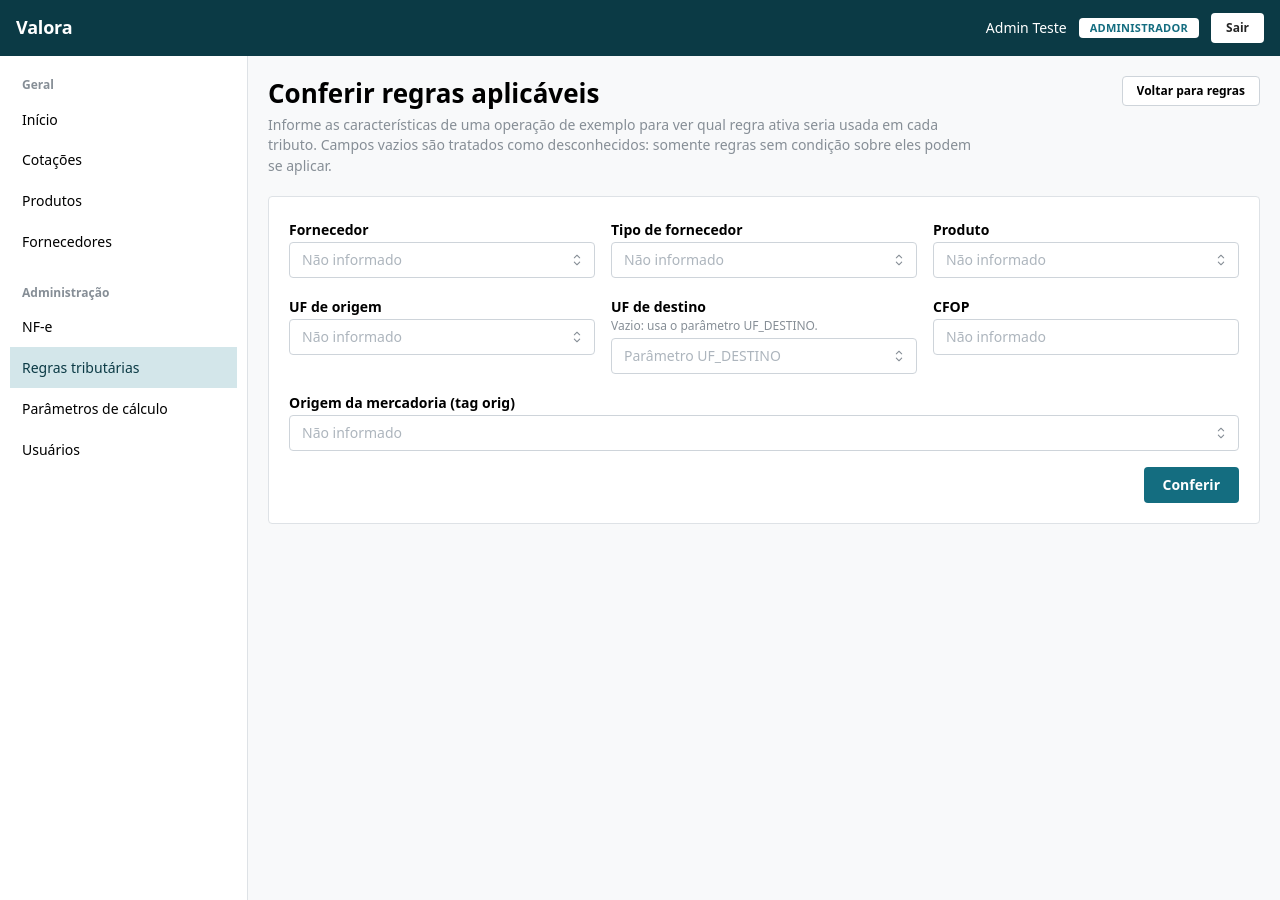
RegrasAplicaveisPage › valida o CFOP antes de enviar
Check: the heading "Conferir regras aplicáveis" is shown, box [268, 75, 599, 111]
Type "61" into the field labelled "CFOP" at (1086,337), box [933, 319, 1239, 355]
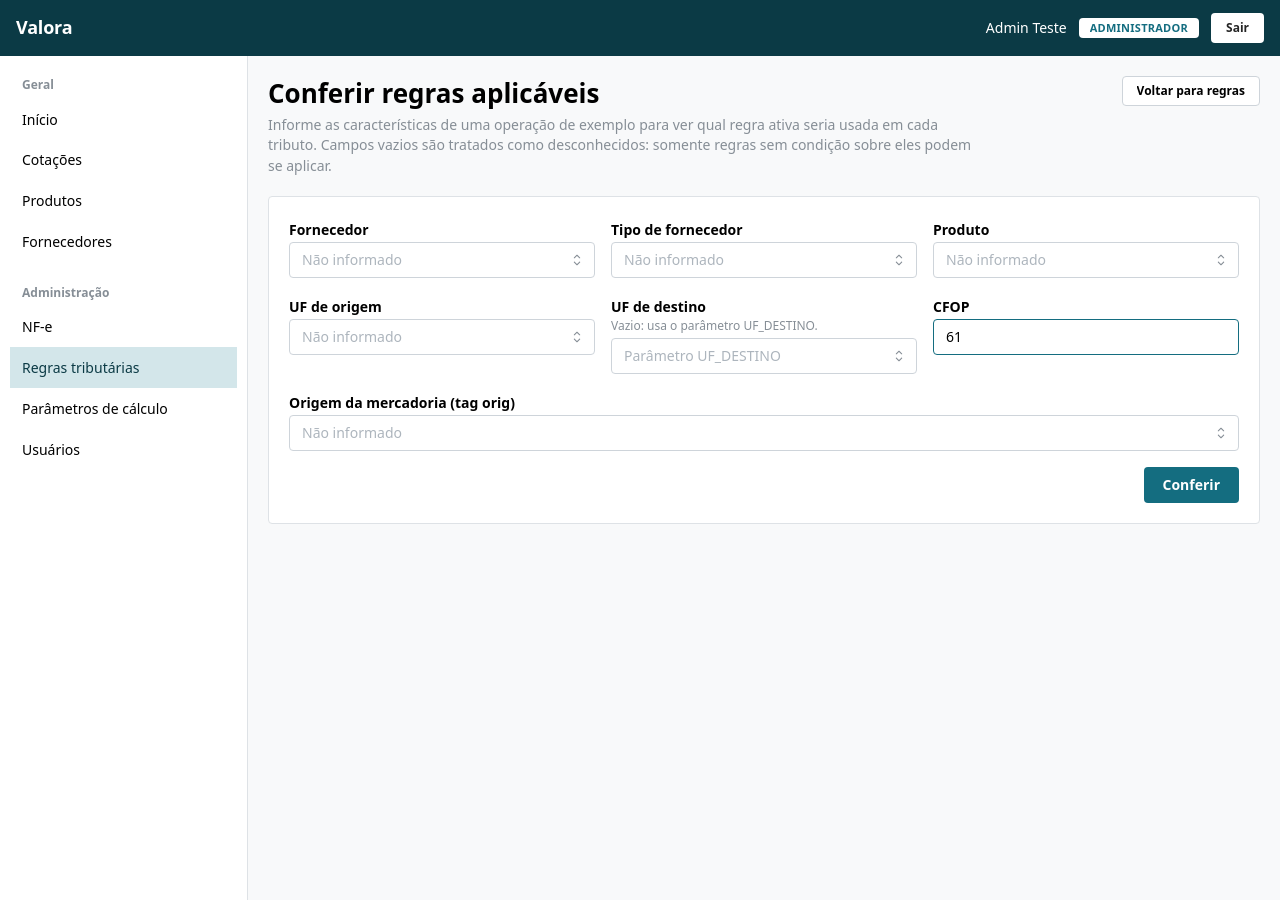
Click the button "Conferir" at (1191,485), box [1144, 467, 1239, 503]
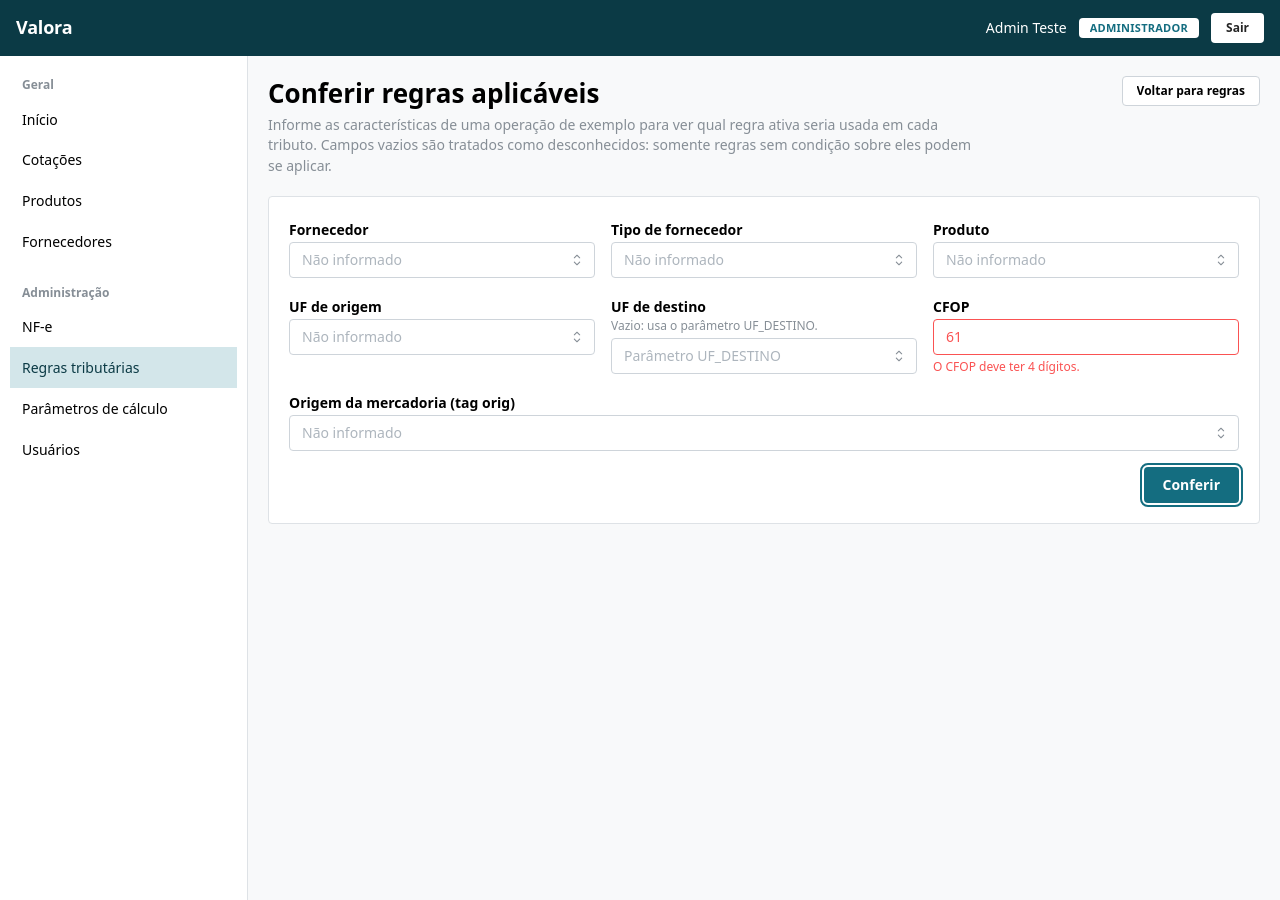
Check: the text "O CFOP deve ter 4 dígitos." is shown, box [933, 358, 1080, 375]
